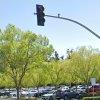traffic lights: (36, 5, 45, 28)
